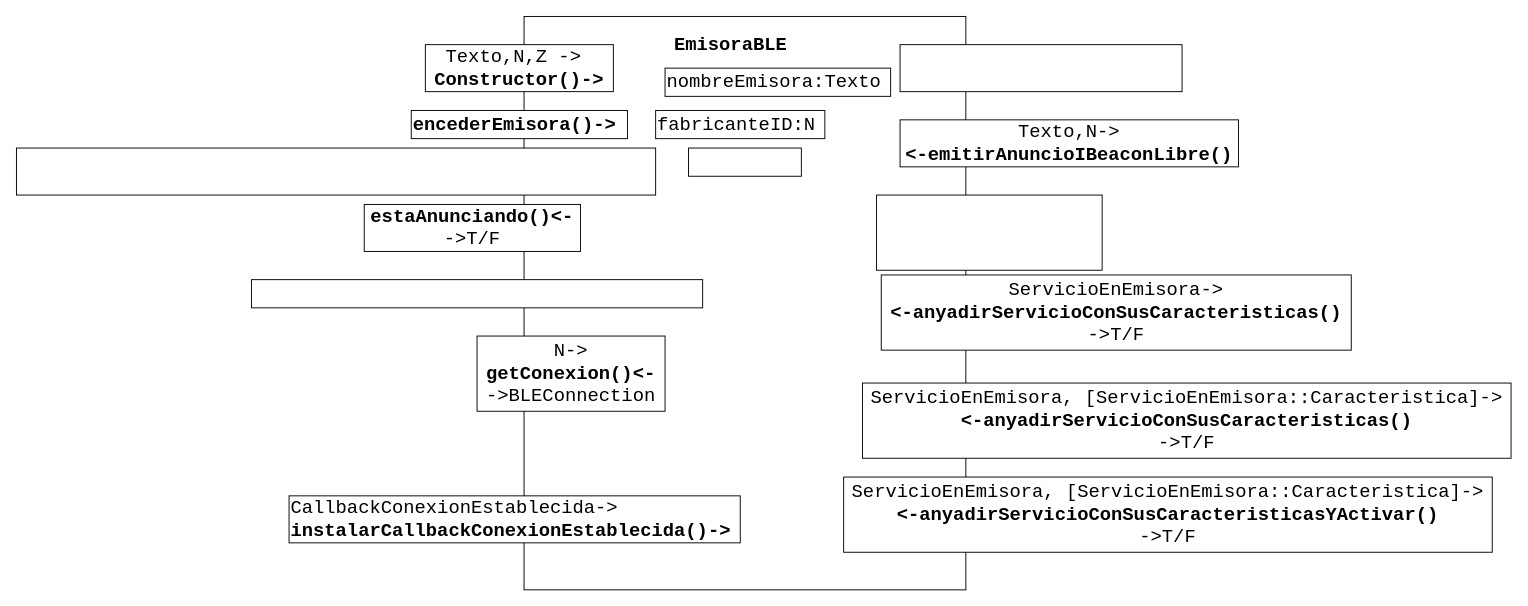
The diagram is 1528 pixels wide and 606 high, and some of its shapes have lost their labels. The shapes that lost their labels are listed below. From the top down, each one's centre as x and y in pixels, then its label:
point (1040, 68): N,Z,Z,N-> <-emitirAnuncioIBeacon()
point (336, 171): CallbackConexionEstablecida,CallbackConexionTerminada-> detenerAnuncio()->
point (744, 161): txPower:Z
point (989, 232): ServicioEnEmisora-> <-anyadirServicio() ->T/F
point (477, 293): instalarCallbackConexionEstablecida()->
